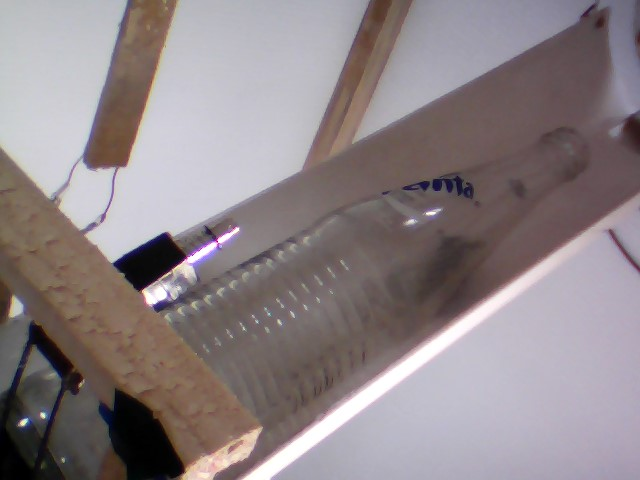vidrio: (213, 123, 595, 439)
